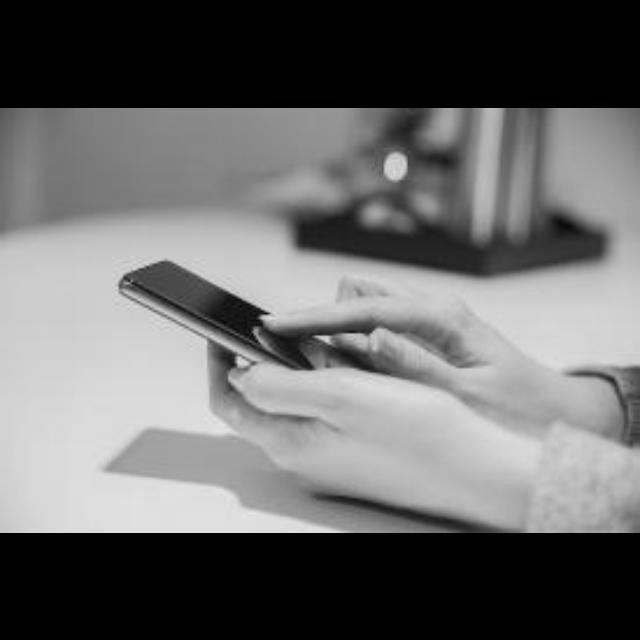fake: (94, 229, 450, 475)
